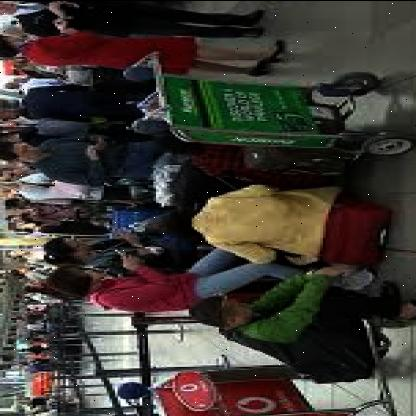airport-trolley: (117, 49, 416, 206), (115, 298, 416, 416)
